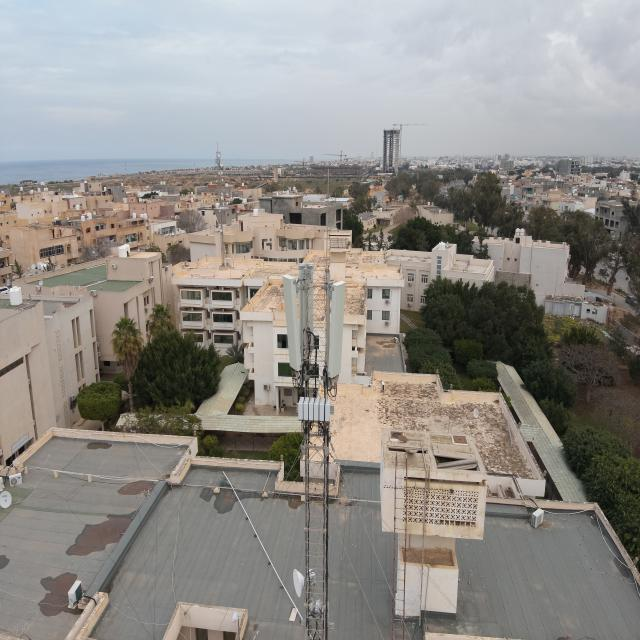antenna: (281, 273, 302, 373), (327, 279, 347, 379), (297, 261, 315, 353)
lighnig-rad: (324, 168, 329, 271)
microware-dish: (290, 568, 318, 599)
power-box: (305, 597, 330, 622)
radio-unit: (298, 395, 332, 424)
